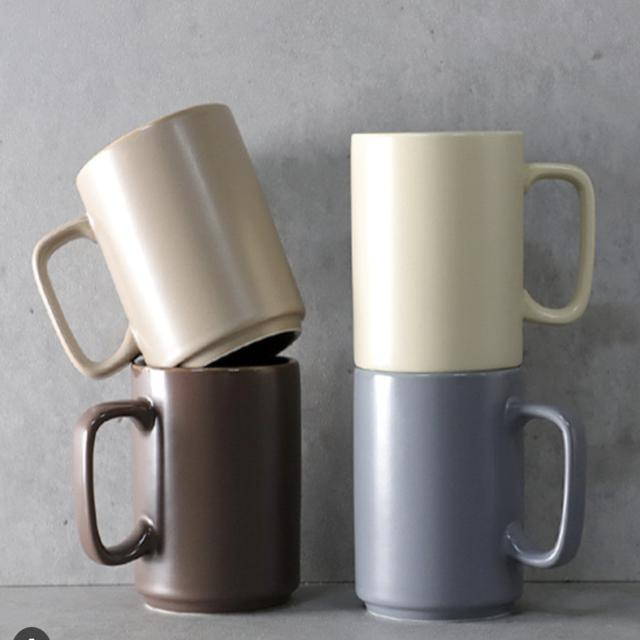recyclable: (28, 101, 310, 379), (337, 112, 606, 372), (337, 372, 610, 628), (69, 358, 314, 621)
